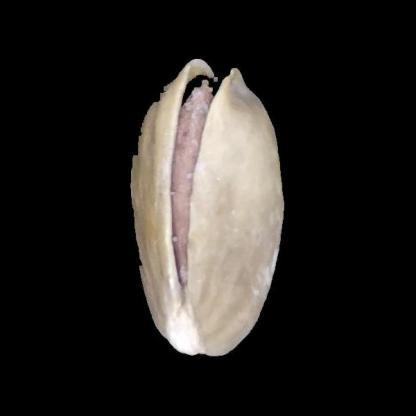pistachio: (109, 55, 298, 364)
